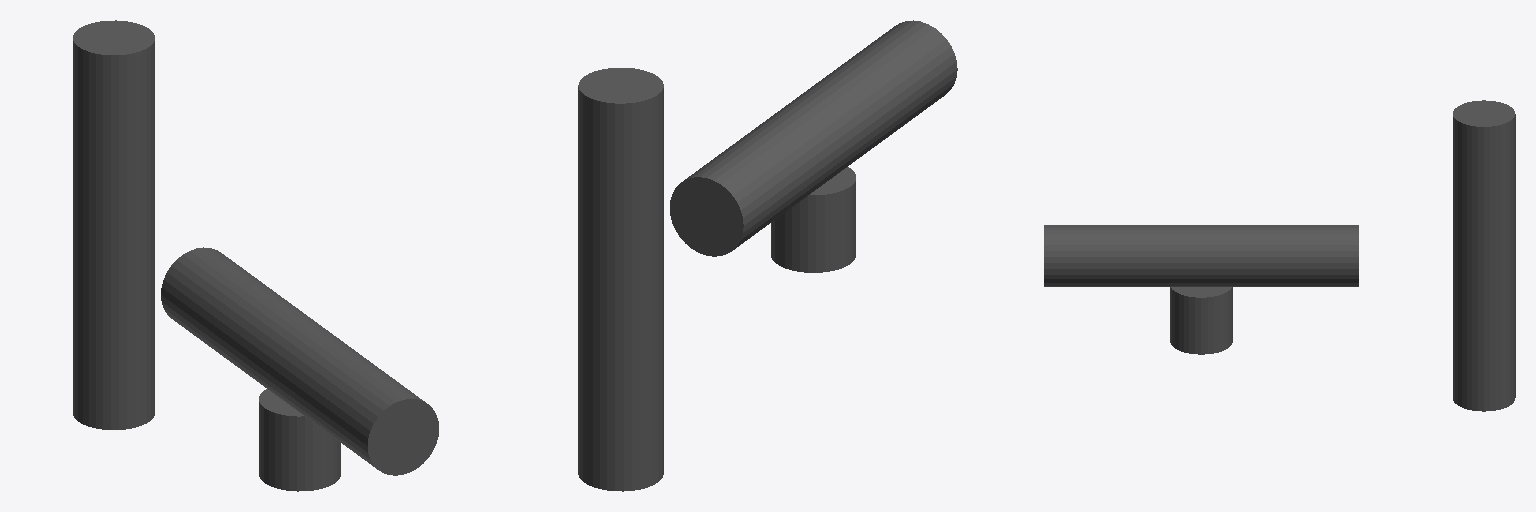
URDF robot description (MinimalRobot):
<?xml version="1.0" encoding="utf-8"?>
<!-- =================================================================================== -->
<!-- |    This document was autogenerated by xacro from minimal_robot.urdf.xacro       | -->
<!-- |    EDITING THIS FILE BY HAND IS NOT RECOMMENDED                                 | -->
<!-- =================================================================================== -->
<robot name="MinimalRobot">
  <!--  <xacro:include filename="$(find ros2_control_demo_robot)/description/demo_2dof/robot_2dof.urdf.xacro" />
  <xacro:include filename="$(find ros2_control_demo_robot)/description/demo_2dof/robot_2dof.gazebo.xacro" />
  <xacro:include filename="$(find ros2_control_demo_robot)/description/demo_2dof/robot_2dof.ros2_control.xacro" />-->
  <!-- Used for fixing robot -->
  <link name="world"/>
  <gazebo reference="world">
    <static>true</static>
  </gazebo>
  <joint name="base_joint" type="fixed">
    <origin rpy="0 0 0" xyz="0 0 0"/>
    <parent link="world"/>
    <child link="base_link"/>
  </joint>
  <link name="base_link">
    <inertial>
      <mass value="0.01"/>
      <origin xyz="0 0 0"/>
      <inertia ixx="0.001" ixy="0.0" ixz="0.0" iyy="0.001" iyz="0.0" izz="0.001"/>
    </inertial>
    <visual>
      <origin rpy="0 0 0" xyz="0 0 0"/>
      <geometry>
        <cylinder length="0.2" radius="0.1"/>
      </geometry>
      <material name="DarkGrey">
        <color rgba="0.4 0.4 0.4 1.0"/>
      </material>
    </visual>
    <collision>
      <origin rpy="0 0 0" xyz="0 0 0"/>
      <geometry>
        <cylinder length="1" radius="0.1"/>
      </geometry>
    </collision>
  </link>
  <joint name="joint1" type="revolute">
    <origin rpy="-1.57079632679 0 0" xyz="0 0 0.2"/>
    <parent link="base_link"/>
    <child link="link1"/>
    <limit effort="0.1" lower="-3.14159265359" upper="3.14159265359" velocity="0.2"/>
  </joint>
  <link name="link1">
    <inertial>
      <mass value="0.01"/>
      <origin xyz="0 0 0"/>
      <inertia ixx="0.001" ixy="0.0" ixz="0.0" iyy="0.001" iyz="0.0" izz="0.001"/>
    </inertial>
    <visual>
      <origin rpy="0 0 0" xyz="0 0 0"/>
      <geometry>
        <cylinder length="1" radius="0.1"/>
      </geometry>
      <material name="DarkGrey">
        <color rgba="0.4 0.4 0.4 1.0"/>
      </material>
    </visual>
    <collision>
      <origin rpy="0 0 0" xyz="0 0 0"/>
      <geometry>
        <cylinder length="1" radius="0.1"/>
      </geometry>
    </collision>
  </link>
  <joint name="joint2" type="revolute">
    <origin rpy="1.57079632679 0 0" xyz="0 0 0.9"/>
    <parent link="link1"/>
    <child link="link2"/>
    <limit effort="0.1" lower="-3.14159265359" upper="3.14159265359" velocity="0.2"/>
  </joint>
  <link name="link2">
    <inertial>
      <mass value="0.01"/>
      <origin xyz="0 0 0"/>
      <inertia ixx="0.001" ixy="0.0" ixz="0.0" iyy="0.001" iyz="0.0" izz="0.001"/>
    </inertial>
    <visual>
      <origin rpy="0 0 0" xyz="0 0 0"/>
      <geometry>
        <cylinder length="1" radius="0.1"/>
      </geometry>
      <material name="DarkGrey">
        <color rgba="0.4 0.4 0.4 1.0"/>
      </material>
    </visual>
    <collision>
      <origin rpy="0 0 0" xyz="0 0 0"/>
      <geometry>
        <cylinder length="1" radius="0.1"/>
      </geometry>
    </collision>
  </link>
  <joint name="tool_joint" type="fixed">
    <origin rpy="0 0 0" xyz="0 0 1"/>
    <parent link="link2"/>
    <child link="tool_link"/>
  </joint>
  <link name="tool_link">
    </link>
  <gazebo reference="base_link">
    <material>Gazebo/Gray</material>
  </gazebo>
  <gazebo reference="link1">
    <material>Gazebo/Gray</material>
  </gazebo>
  <gazebo reference="link2">
    <material>Gazebo/Gray</material>
  </gazebo>
  <gazebo>
    <plugin filename="libgazebo_ros_control.so" name="gazebo_ros_control">
      </plugin>
  </gazebo>
  <ros2_control name="MinimalRobot" type="robot">
    <hardware>
      <classType>ros2_control_demo_hardware/DemoRobotHardwareMinimal</classType>
      <param name="write_for_sec">2</param>
      <param name="read_for_sec">2</param>
    </hardware>
    <joint name="joint1_position_actuator">
      <classType>ros2_control_components/PositionActuator</classType>
      <joint name="joint1">
        <interfaceName>position</interfaceName>
      </joint>
      <param name="can_read">True</param>
      <param name="min_values">-1</param>
      <param name="max_values">1</param>
    </joint>
    <joint name="joint2_position_actuator">
      <classType>ros2_control_components/PositionActuator</classType>
      <joint name="joint2">
        <interfaceName>position</interfaceName>
      </joint>
      <param name="can_read">True</param>
      <param name="min_values">-1</param>
      <param name="max_values">1</param>
    </joint>
  </ros2_control>
  <transmission name="tran1">
    <type>transmission_interface/SimpleTransmission</type>
    <joint name="joint1">
      <hardwareInterface>PositionJointInterface</hardwareInterface>
    </joint>
    <actuator name="motor1">
      <mechanicalReduction>1</mechanicalReduction>
    </actuator>
  </transmission>
  <transmission name="tran2">
    <type>transmission_interface/SimpleTransmission</type>
    <joint name="joint2">
      <hardwareInterface>VelocityJointInterface</hardwareInterface>
    </joint>
    <actuator name="motor2">
      <mechanicalReduction>1</mechanicalReduction>
    </actuator>
  </transmission>
</robot>

--- Render facts (derived) ---
Views: 3 orthographic renders of the robot side by side, from view 1: azimuth 30°, elevation 25°; view 2: azimuth 150°, elevation 25°; view 3: azimuth 270°, elevation 25°.
Robot: MinimalRobot — 5 links, 4 joints (2 revolute, 2 fixed); root link world; default pose: every joint at zero.
Links seen in each view (by area): view 1: link2, link1, base_link; view 2: link2, link1, base_link; view 3: link1, link2, base_link.
Boxes of the visible links, x1,y1,x2,y2 form: link2: (73,20,154,429); link1: (161,247,438,475); base_link: (259,389,340,491); link2: (578,68,663,491); link1: (670,20,957,256); base_link: (771,167,855,272); link1: (1044,225,1358,286); link2: (1453,100,1515,411); base_link: (1170,287,1232,354).
Bounding box of the posed robot: 0.2 × 1.5 × 1 m (x, y, z).
Geometry: primitives only (box / cylinder / sphere), no mesh files.